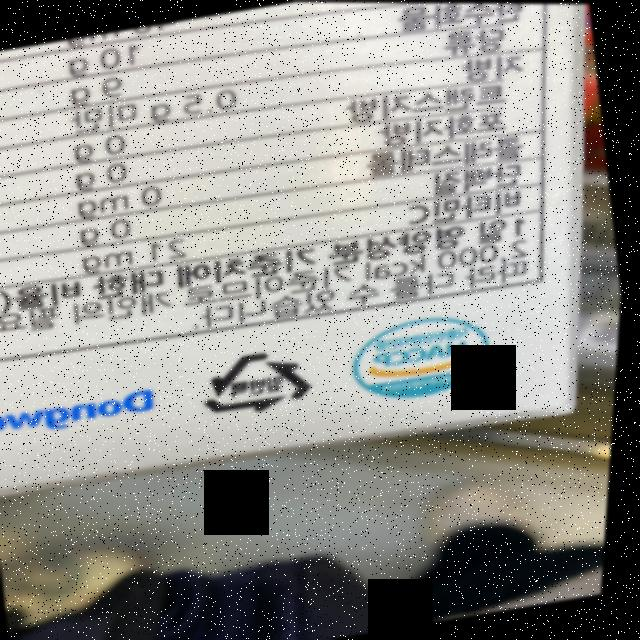NormalPack: (201, 340, 323, 421)
